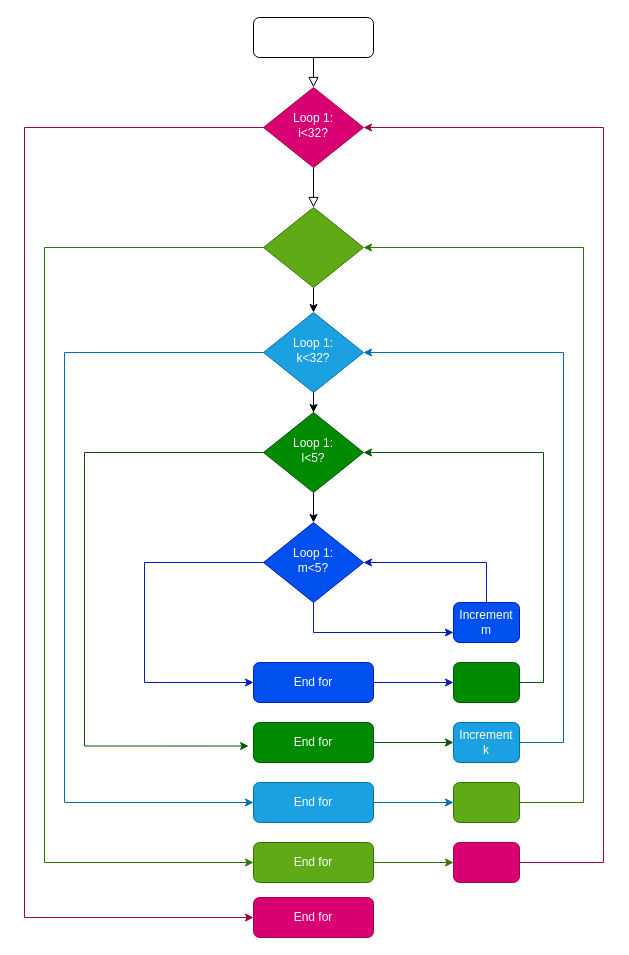
Image size: 629x955. Some labels were removed from this diagram. Each missing label, with the box of its shape:
Increment i: (452, 842, 520, 882)
Increment j: (452, 782, 520, 822)
Increment l: (452, 662, 520, 702)
Loop 1: j<32?: (262, 206, 364, 288)
Start: (252, 16, 374, 58)
